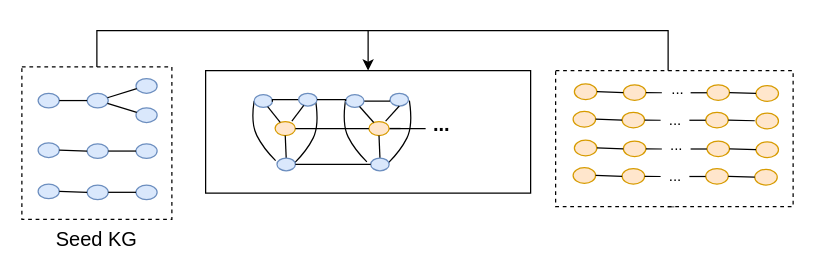
The diagram is 815 pixels wide and 274 high, and some of its shapes have lost their labels. Here are the shapes that lost their labels. From the top down, the box of each, then its label:
(204, 69, 531, 193): Fully connected leaves
(554, 69, 793, 206): Dataset of chain graphs
